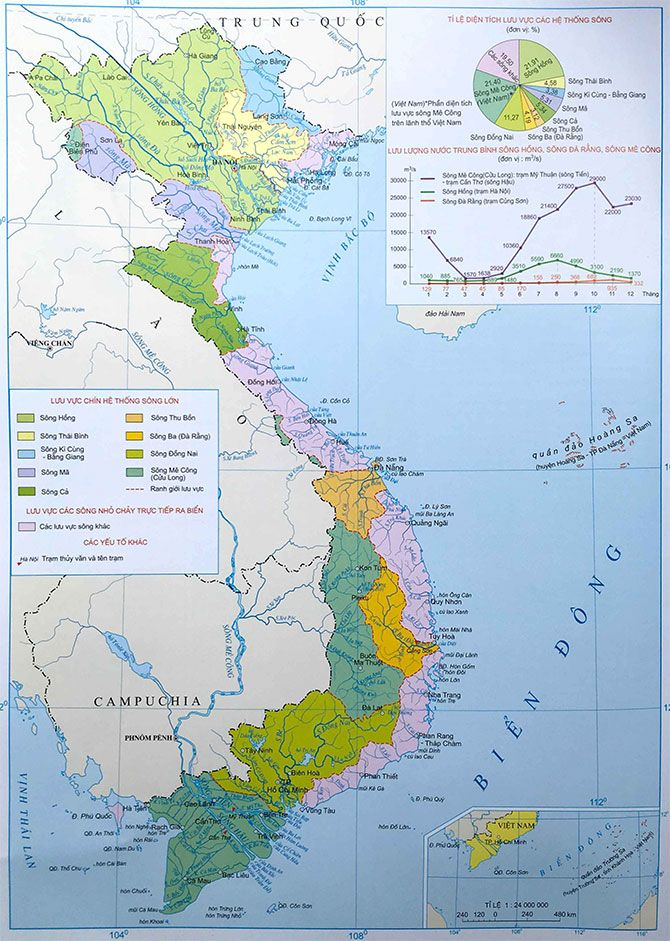Island: (527, 406, 654, 486), (561, 820, 654, 910)
